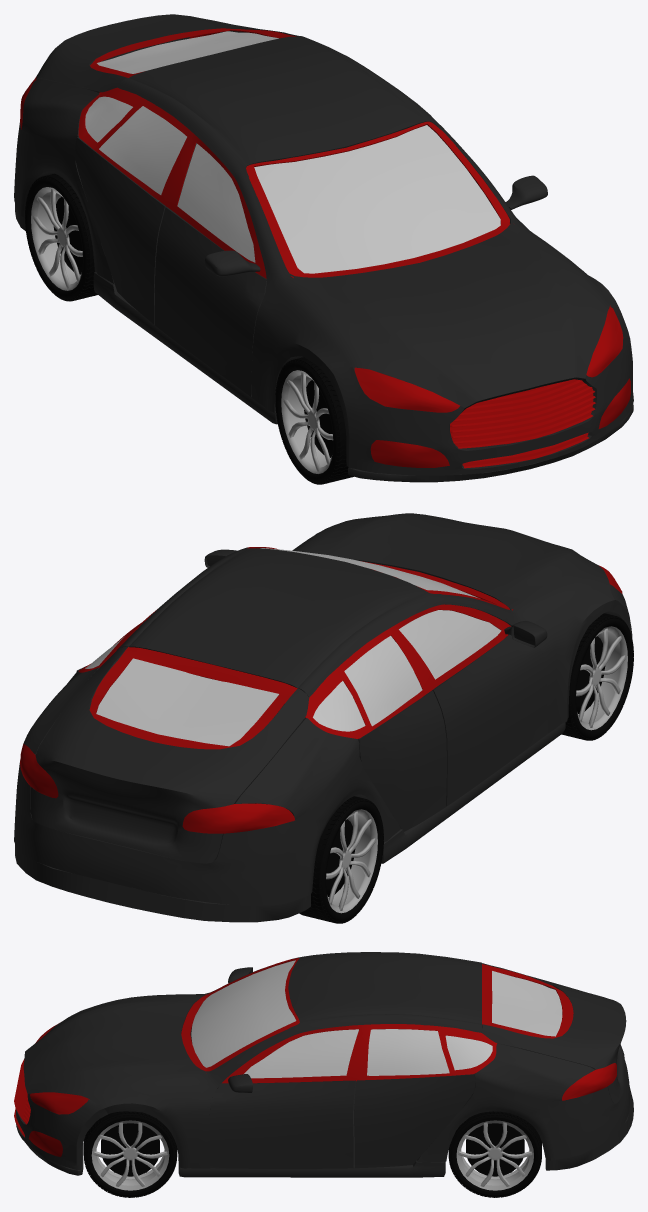
File: Auto.fbx
3 views of the same model, one above another, from view 1: azimuth 30°, elevation 25°; view 2: azimuth 150°, elevation 25°; view 3: azimuth 270°, elevation 25° (orthographic). The views are drawn at different scales.
Parts seen in each view (by area): view 1: Auto, rueda.001, rueda.003; view 2: Auto, rueda.003, rueda.001; view 3: Auto, rueda, rueda.002.
Part boxes in pixels (<box>): Auto: <box>14,14,633,482</box>; rueda.001: <box>275,357,353,484</box>; rueda.003: <box>25,173,97,301</box>; Auto: <box>14,513,632,922</box>; rueda.003: <box>299,796,383,923</box>; rueda.001: <box>561,613,633,740</box>; Auto: <box>14,952,633,1177</box>; rueda: <box>83,1111,177,1197</box>; rueda.002: <box>448,1111,541,1197</box>.
Size of the model in its own units: 283 by 186 by 627.
